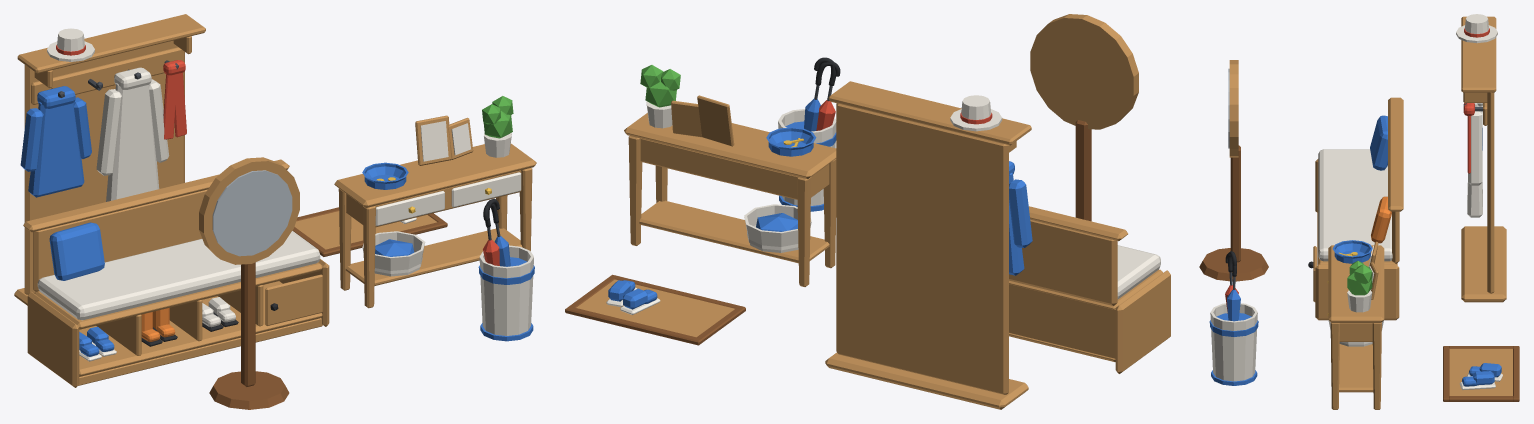
The model's file is cosy-entryway-set.glb.
3 renders of one model, left to right at view 1: azimuth 30°, elevation 25°; view 2: azimuth 150°, elevation 25°; view 3: azimuth 270°, elevation 25°, orthographic. The views are drawn at different scales.
Visible parts, largest first — view 1: Seat, Coat_Cream, CoatRack_Board, Bench_Backrest, Jacket_Blue, Mirror_Glass, Console_Top, Stand_Pot, Bench_Bottom, Bench_Side_L, CoatRack_Shelf, Mirror_Frame (+39 smaller); view 2: CoatRack_Board, Mirror_Frame, Bench_Backrest, Bench_Back, Console_Top, Console_Apron, CoatRack_Shelf, Bench_Side_L, Console_Shelf, Mat_Base, CoatRack_Foot, Jacket_Blue (+22 smaller); view 3: Seat, CoatRack_Foot, Stand_Pot, Console_Top, Mat_Base, CoatRack_Shelf, Bench_BackCap, Bench_Side_R, Console_Shelf, CoatRack_Board, Mirror_Base, Coat_Cream (+23 smaller).
Part boxes in pixels (x1,y1,x2,y2): Seat: (37,231,320,320); Coat_Cream: (96,67,169,201); CoatRack_Board: (24,40,184,294); Bench_Backrest: (33,189,207,291); Jacket_Blue: (20,86,91,197); Mirror_Glass: (212,170,292,256); Console_Top: (334,143,536,207); Stand_Pot: (479,245,533,335); Bench_Bottom: (79,281,322,376); Bench_Side_L: (27,291,79,387); CoatRack_Shelf: (17,14,205,73); Mirror_Frame: (199,157,299,264); CoatRack_Board: (836,103,1008,394); Mirror_Frame: (1030,14,1138,129); Bench_Backrest: (1009,219,1117,305); Bench_Back: (1009,284,1115,358); Console_Top: (624,113,836,179); Console_Apron: (640,138,829,199); CoatRack_Shelf: (828,81,1031,145); Bench_Side_L: (1115,270,1170,373); Console_Shelf: (639,200,829,263); Mat_Base: (576,279,734,337); CoatRack_Foot: (825,352,1028,409); Jacket_Blue: (1009,161,1032,275); Seat: (1318,149,1392,261); CoatRack_Foot: (1461,226,1506,302); Stand_Pot: (1210,303,1257,381); Console_Top: (1328,245,1384,322); Mat_Base: (1449,349,1512,395); CoatRack_Shelf: (1461,16,1496,92); Bench_BackCap: (1388,97,1403,211); Bench_Side_R: (1315,264,1399,320); Console_Shelf: (1339,344,1373,392); CoatRack_Board: (1487,92,1494,293); Mirror_Base: (1199,248,1268,281); Coat_Cream: (1467,103,1482,217).
Bounding box in the file's own units: 13.62 × 7.32 × 9.18.
